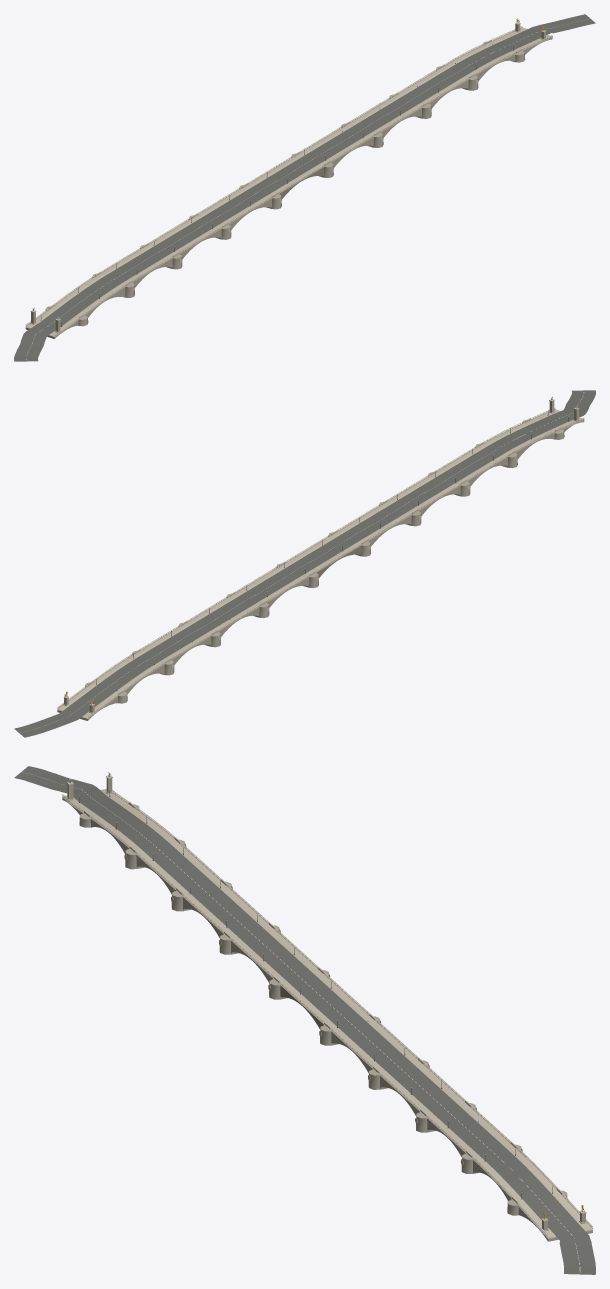
The model's file is arlington-memorial-bridge-far.glb.
3 views of the same model, one above another, from view 1: azimuth 30°, elevation 25°; view 2: azimuth 210°, elevation 25°; view 3: azimuth 270°, elevation 25° (orthographic). The views are drawn at different scales.
Visible parts, largest first — view 1: arlington-memorial-bridge-0-asphalt, arlington-memorial-bridge-0-trim, arlington-memorial-bridge-0-stone; view 2: arlington-memorial-bridge-0-asphalt, arlington-memorial-bridge-0-trim, arlington-memorial-bridge-0-stone; view 3: arlington-memorial-bridge-0-asphalt, arlington-memorial-bridge-0-trim, arlington-memorial-bridge-0-stone.
Part boxes in pixels (<box>): arlington-memorial-bridge-0-asphalt: <box>14,14,595,361</box>; arlington-memorial-bridge-0-trim: <box>25,22,552,336</box>; arlington-memorial-bridge-0-stone: <box>25,24,552,338</box>; arlington-memorial-bridge-0-asphalt: <box>14,390,595,737</box>; arlington-memorial-bridge-0-trim: <box>57,399,584,718</box>; arlington-memorial-bridge-0-stone: <box>57,396,584,720</box>; arlington-memorial-bridge-0-asphalt: <box>14,766,595,1274</box>; arlington-memorial-bridge-0-trim: <box>62,775,592,1237</box>; arlington-memorial-bridge-0-stone: <box>62,772,592,1241</box>.
Size of the model in its own units: 690 by 16.23 by 333.
